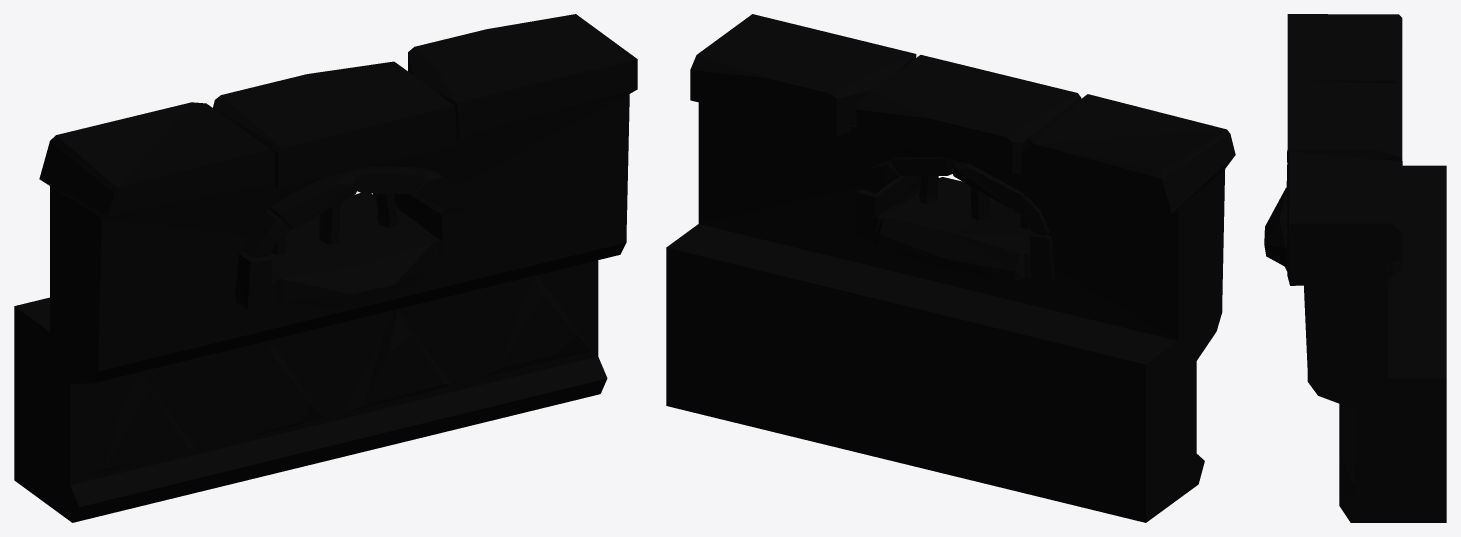
The model's file is dark_SM_Bld_Bridge_Railing_02.gltf.
The picture shows the model from 3 angles, left to right: view 1: azimuth 30°, elevation 25°; view 2: azimuth 150°, elevation 25°; view 3: azimuth 270°, elevation 25°; orthographic projection. The views are drawn at different scales.
Parts seen in each view (by area): view 1: SM_Bld_Bridge_Railing_02; view 2: SM_Bld_Bridge_Railing_02; view 3: SM_Bld_Bridge_Railing_02.
Part boxes in pixels (box(x1,y1,x2,y2)): SM_Bld_Bridge_Railing_02: box(14, 14, 637, 522); SM_Bld_Bridge_Railing_02: box(666, 14, 1235, 522); SM_Bld_Bridge_Railing_02: box(1264, 14, 1446, 522).
Bounding box in the file's own units: 2.52 × 1.64 × 0.9046.
Materials: 1 (1 with a texture image).
